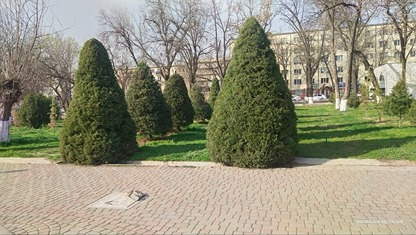car: (314, 93, 327, 102)
tree: (208, 14, 306, 170), (57, 34, 137, 168), (0, 0, 56, 147), (313, 0, 368, 109), (373, 1, 416, 78), (127, 59, 165, 145), (160, 72, 193, 135), (385, 81, 416, 126)
